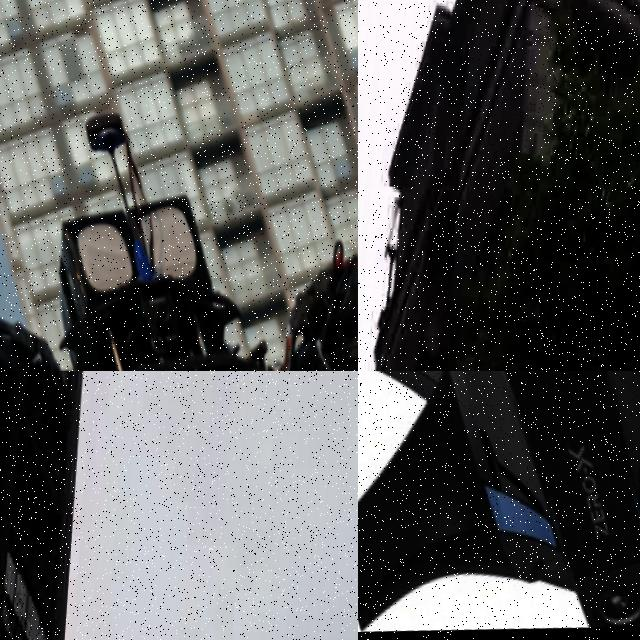drone: (0, 0, 358, 371), (358, 371, 640, 640)
